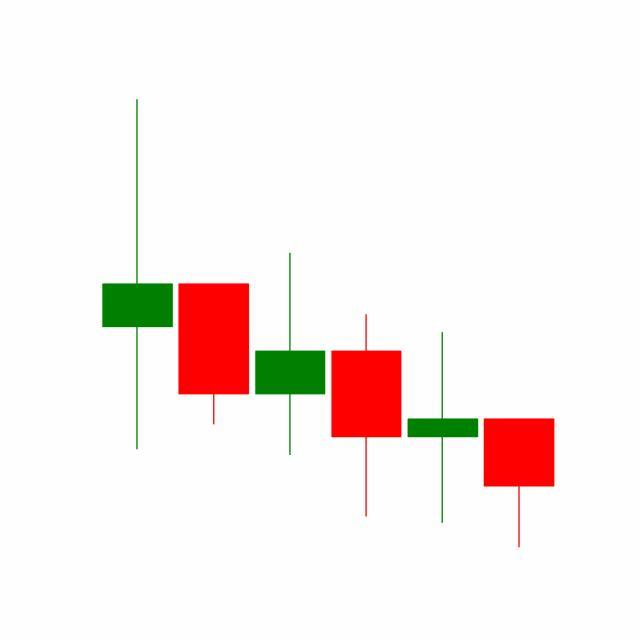Spinning Top: (404, 331, 482, 527)
